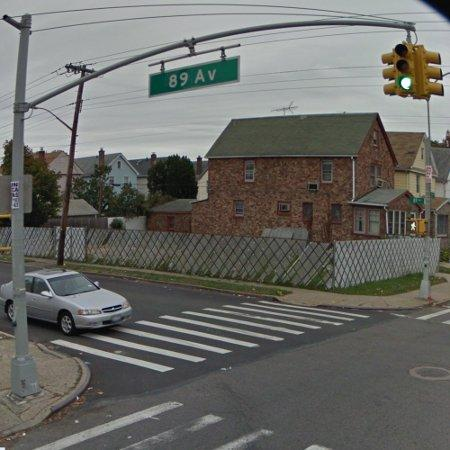crosswalks: (46, 298, 371, 374)
